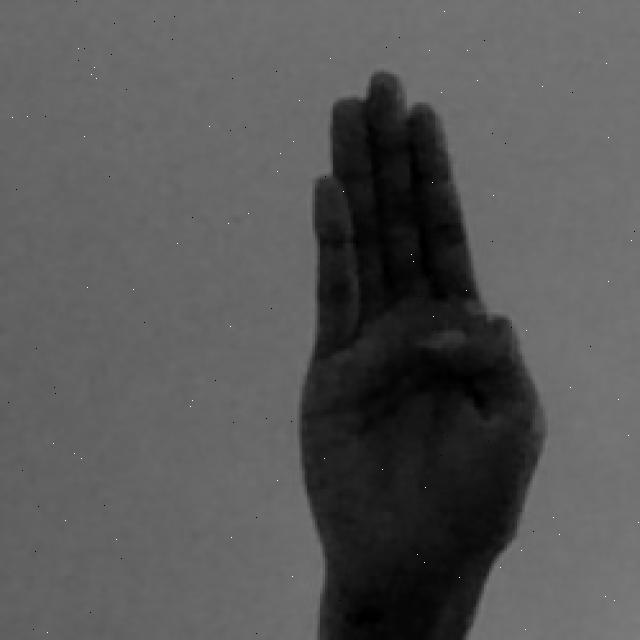B: (292, 68, 546, 640)
